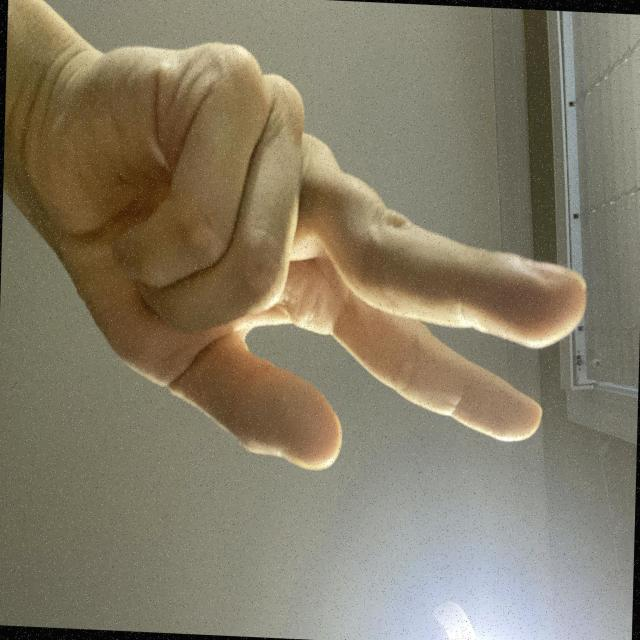K: (182, 54, 533, 640)
